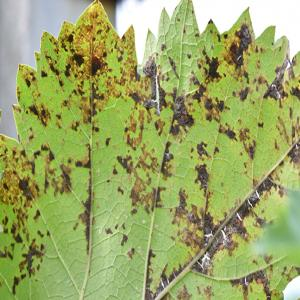Folha: (0, 0, 299, 299)
Fungo: (204, 134, 297, 259), (72, 10, 111, 262), (0, 65, 76, 156), (124, 117, 170, 216), (159, 174, 190, 300), (189, 82, 259, 131), (0, 144, 54, 204), (46, 27, 84, 75), (118, 33, 141, 104), (142, 54, 166, 116), (170, 90, 194, 135), (20, 237, 45, 278), (234, 19, 252, 65), (201, 44, 222, 82), (194, 162, 209, 193), (207, 56, 221, 80), (142, 55, 156, 77), (104, 217, 118, 237), (263, 84, 280, 100), (168, 56, 179, 78), (196, 140, 209, 158), (126, 247, 135, 259), (120, 233, 128, 245), (117, 185, 124, 195), (105, 226, 112, 234), (130, 208, 137, 215), (186, 52, 191, 58)
